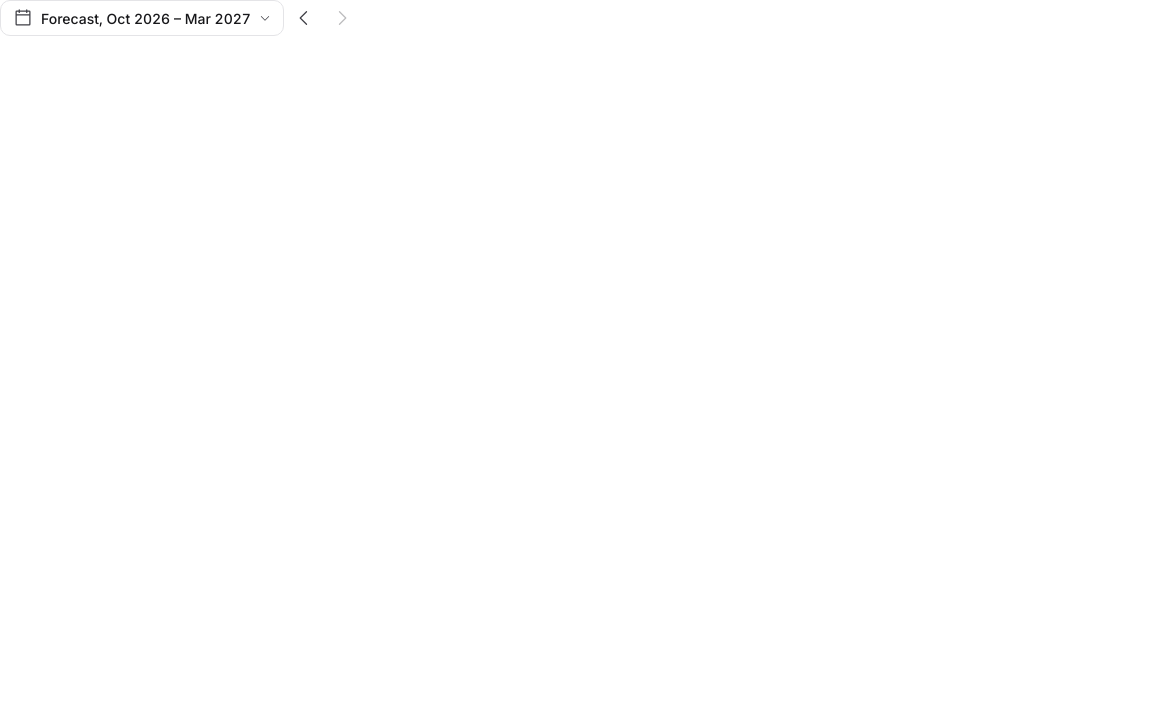
PeriodPicker › switches between months and years
Step 1. Click the button "Forecast, Oct 2026 – Mar 2027" → (142, 18), box [0,0,284,36]
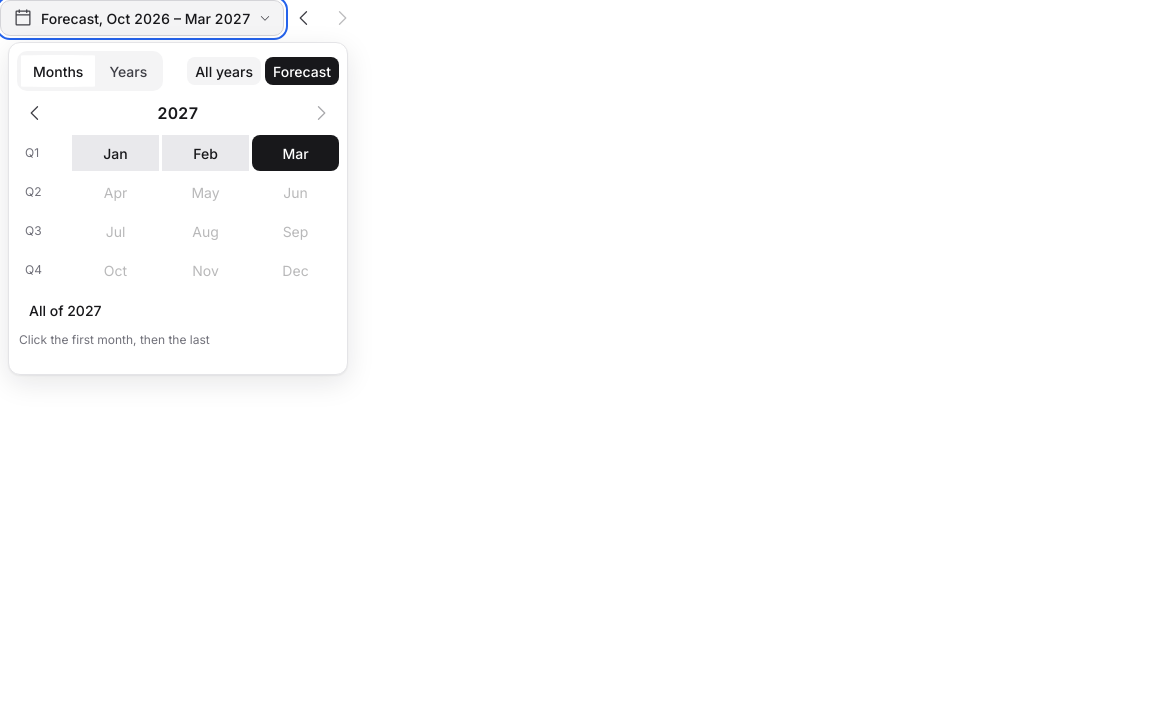
Step 2. Click the button "Years" → (128, 71), box [97,55,159,87]
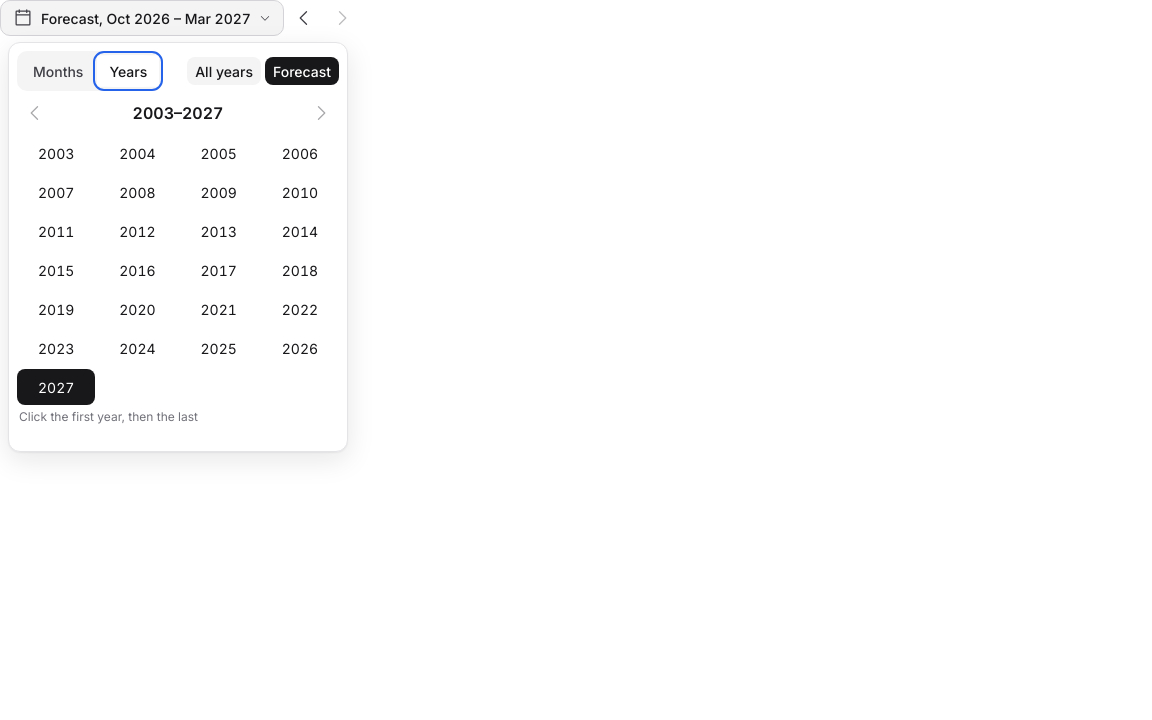
Step 3. Click the button "Months" → (58, 71), box [21,55,95,87]
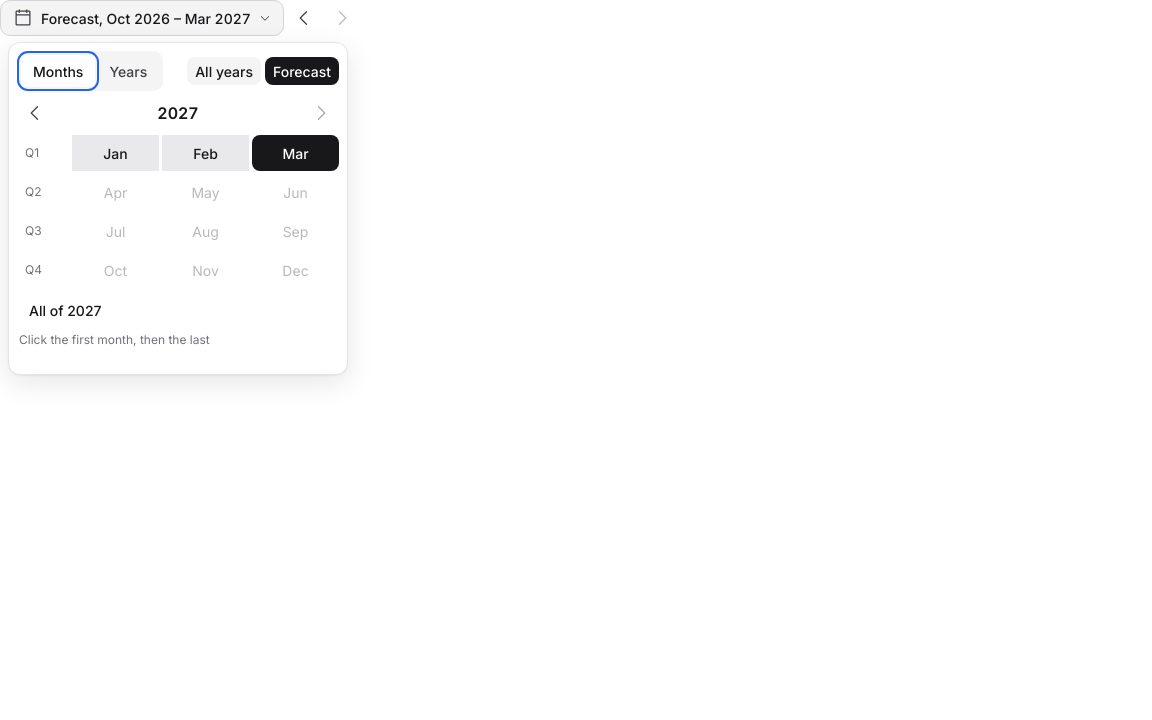
Expected: the button titled "2027-02, forecast" is shown, [162,135,249,171]
